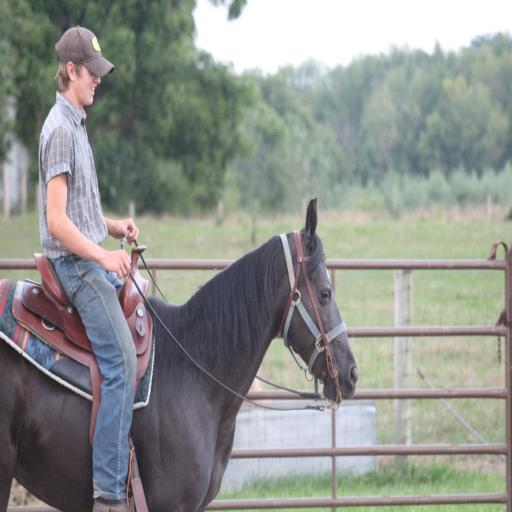horse: (0, 196, 361, 512)
